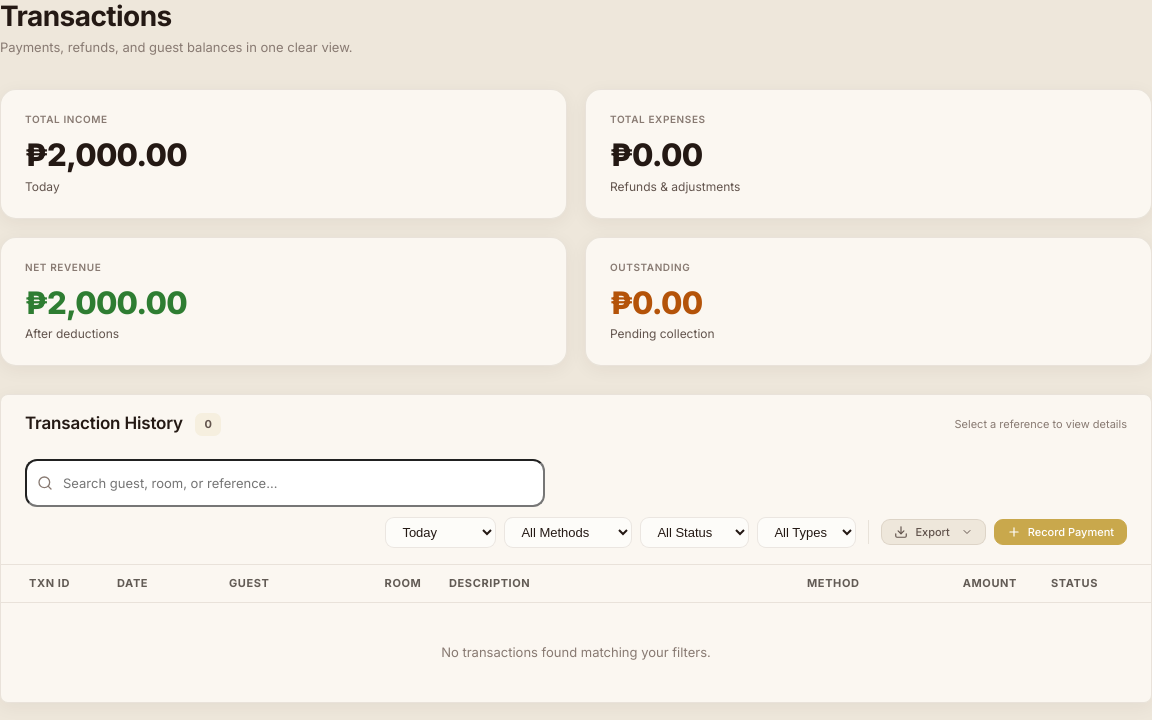
Test case: payment requires guest, room, description, and a positive amount
The image size is (1152, 720).
Click the button "Record Payment" at (1060, 532), box [994,519,1127,545]
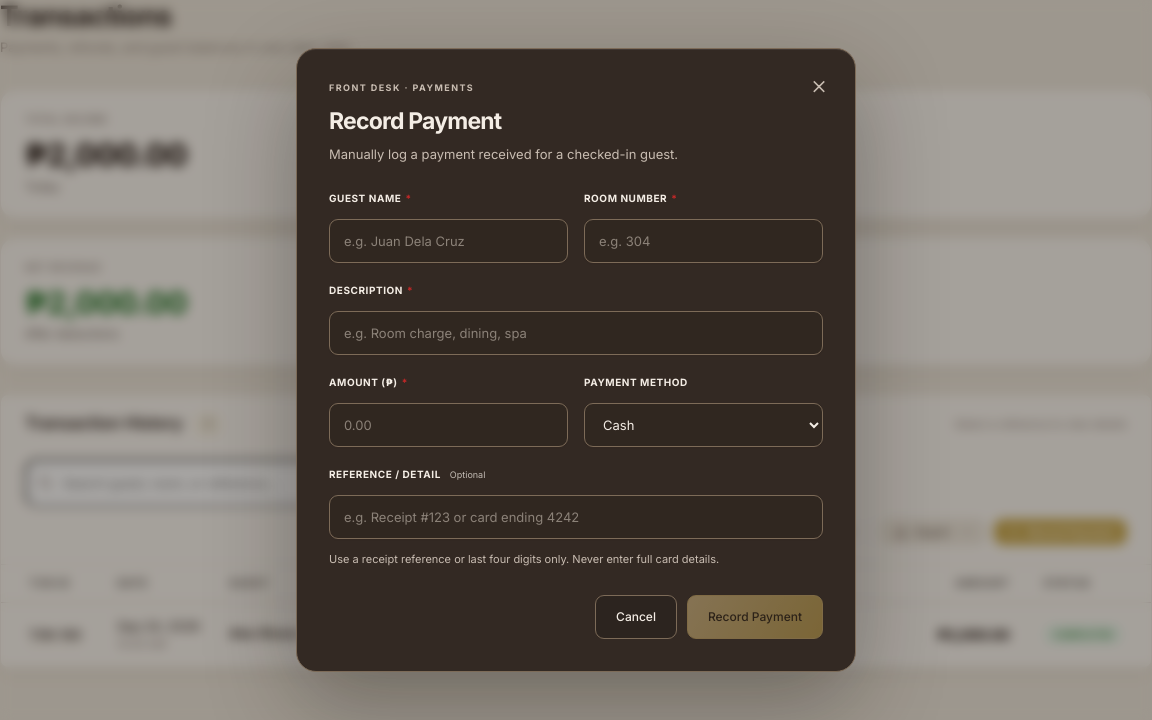
expect the button "Record Payment" is disabled: met, box [687,595,823,639]
Type "Alex Rivera" into the field labelled "Guest Name *" at (448, 241), box [329,219,568,263]
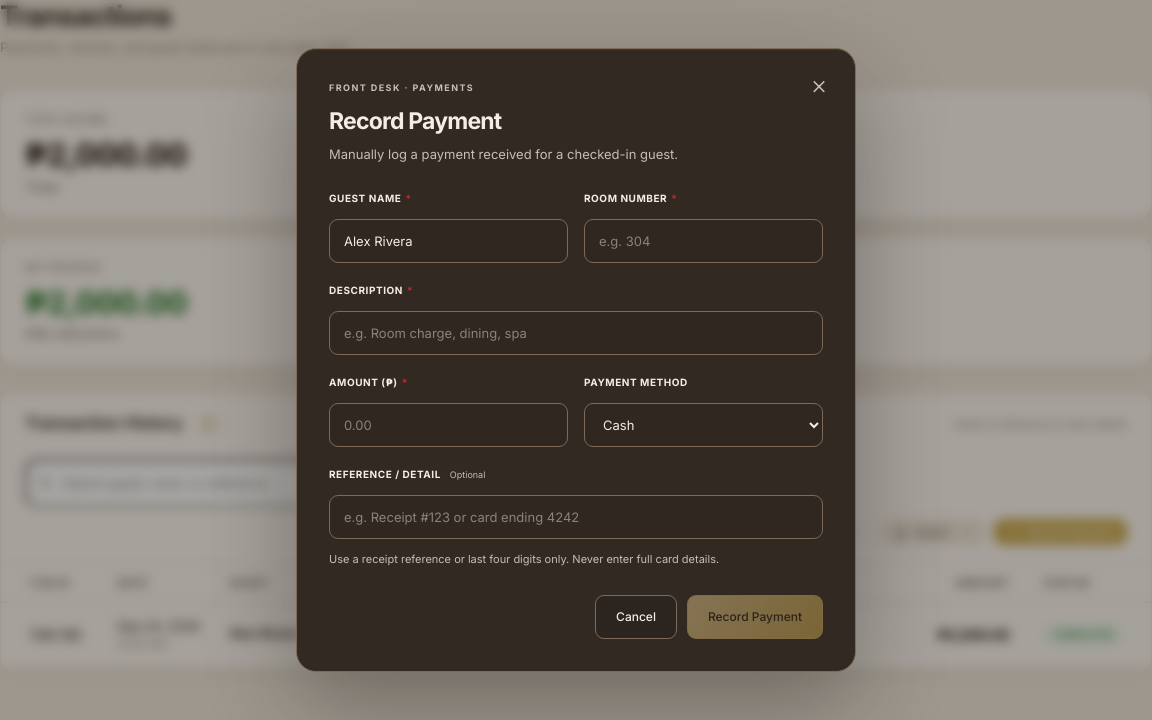
Type "304" into the field labelled "Room Number *" at (704, 241), box [584,219,823,263]
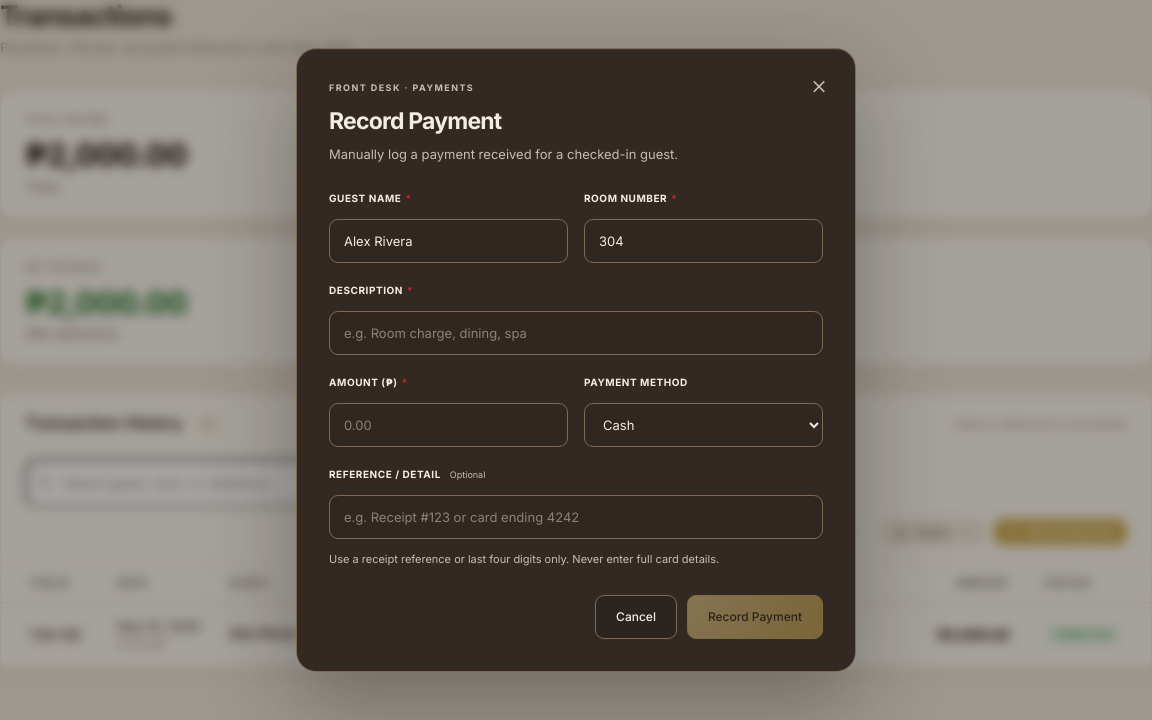
Type "Room payment" into the field labelled "Description *" at (576, 333), box [329,311,823,355]
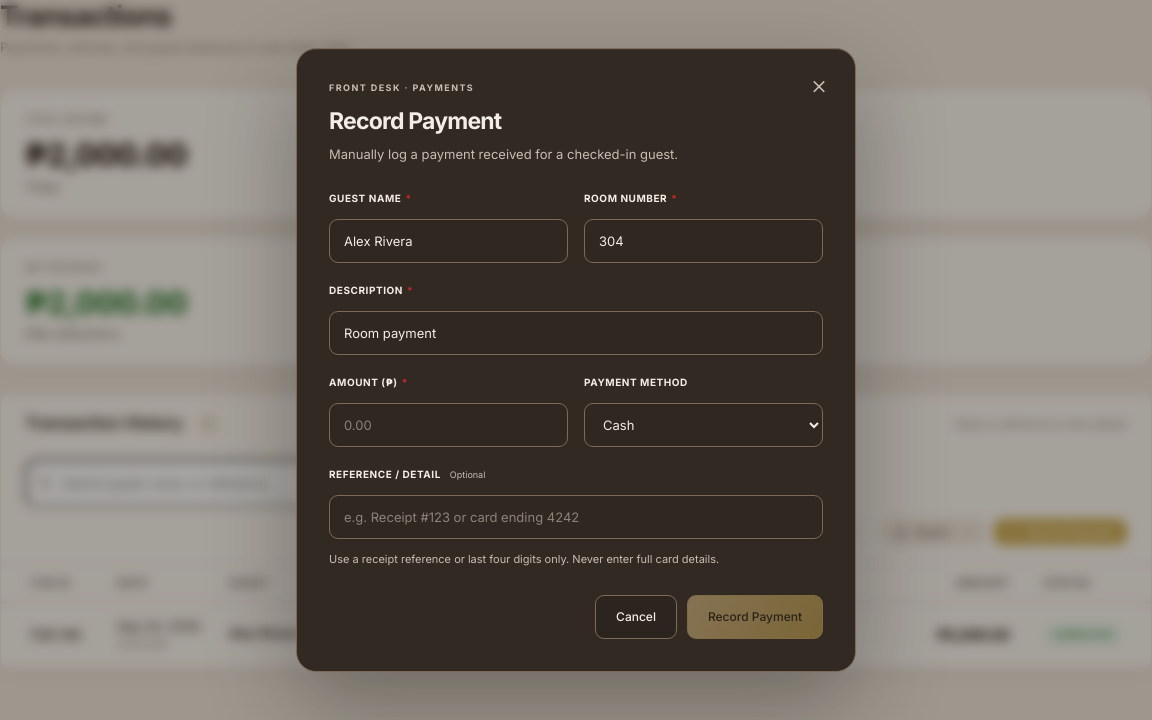
Type "1500.50" into the number field labelled "Amount (₱) *" at (448, 425), box [329,403,568,447]
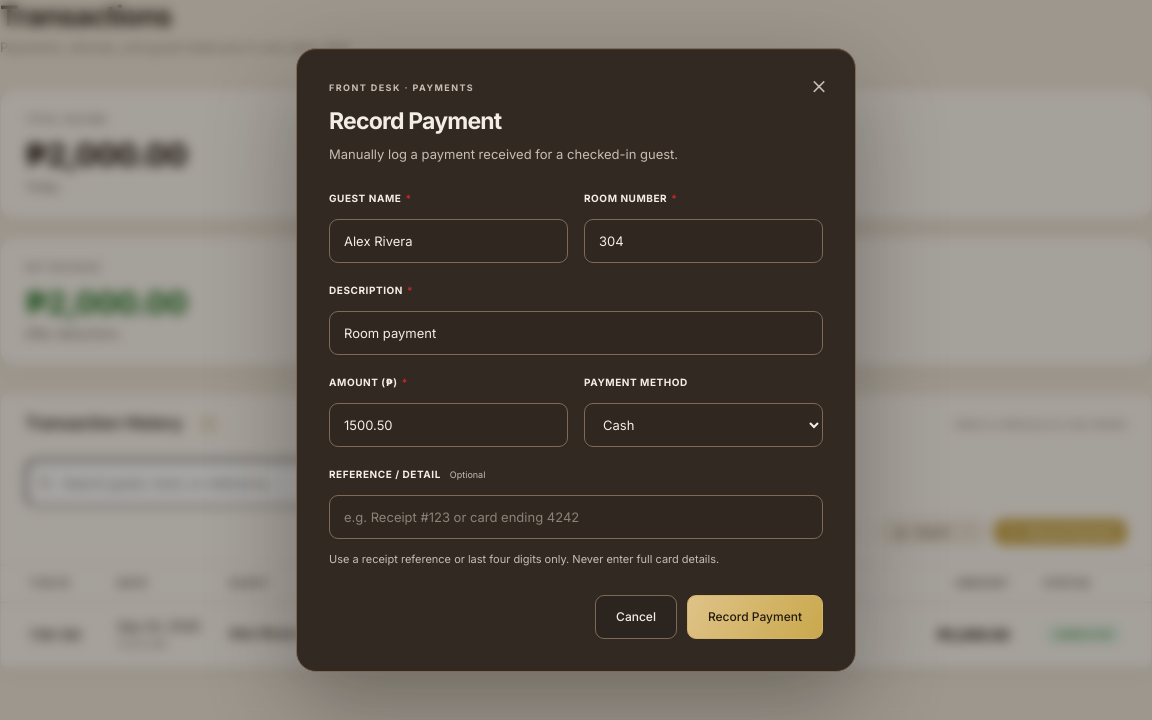
expect the button "Record Payment" is enabled: met, box [687,595,823,639]
Replace the text in the number field labelled "Amount (₱) *" with "0" at (448, 425), box [329,403,568,447]
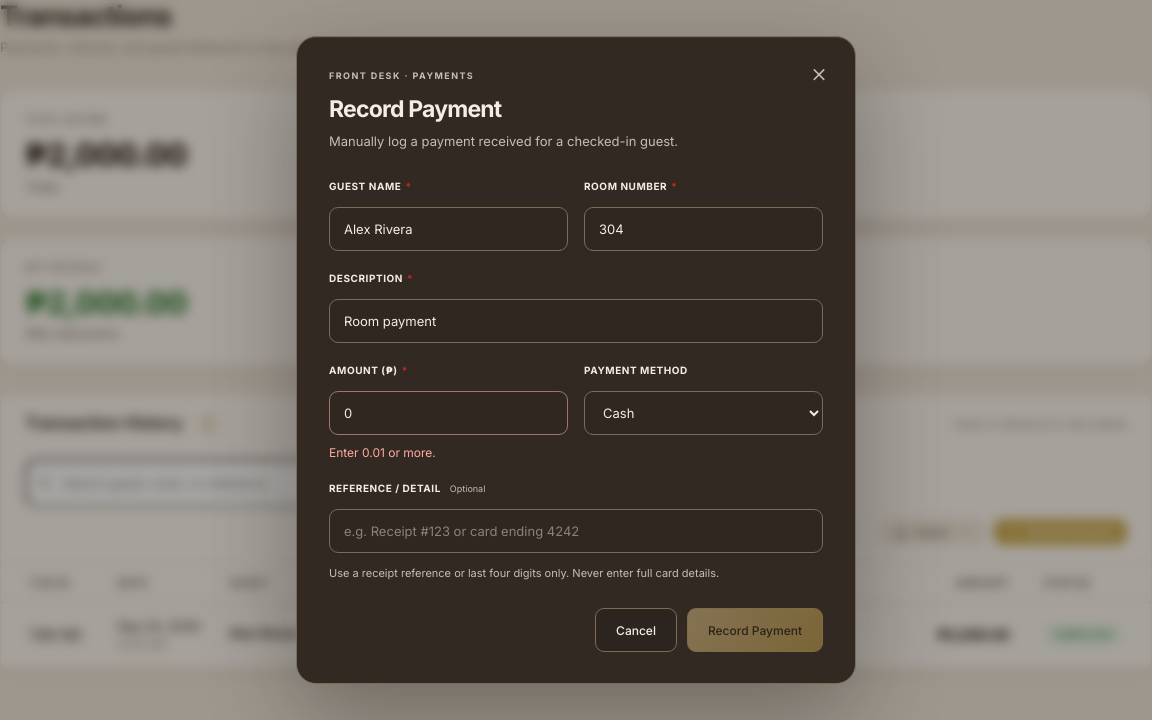
expect the button "Record Payment" is disabled: met, box [687,608,823,652]
